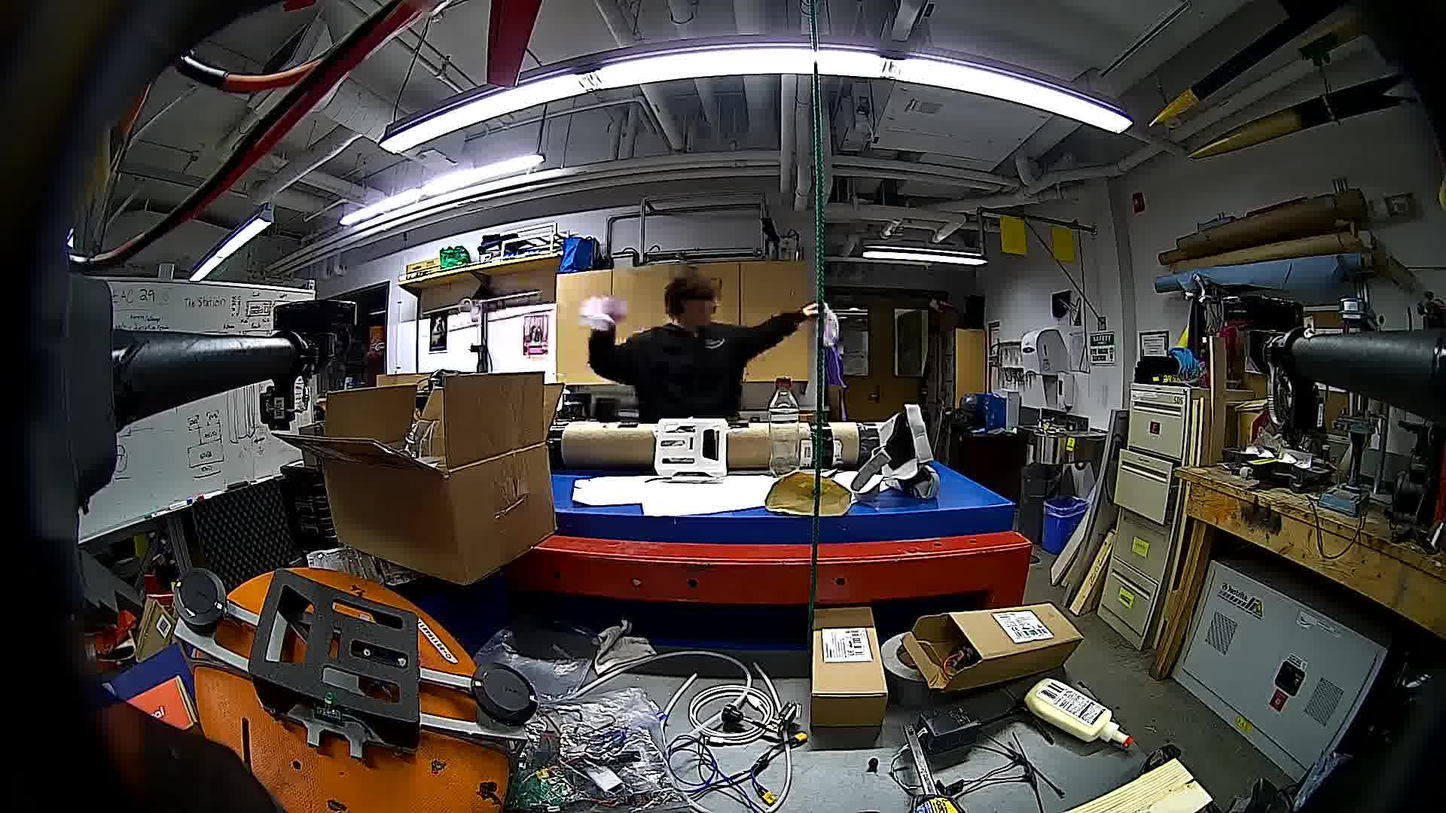Target: (578, 294, 626, 330)
